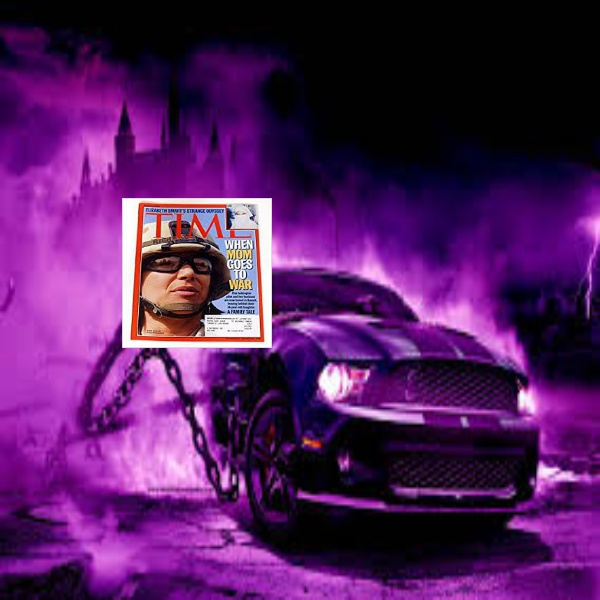time_cover: (122, 186, 275, 350)
